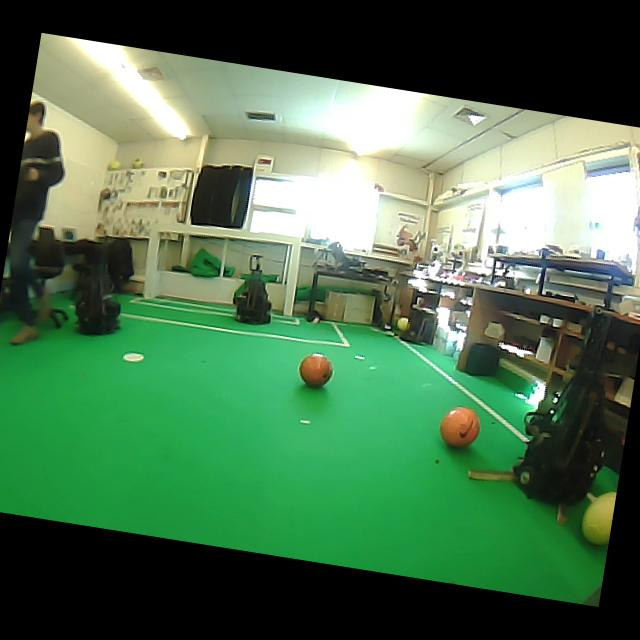ball: (582, 492, 616, 545), (440, 407, 480, 447), (299, 353, 333, 387), (396, 317, 410, 331), (107, 159, 122, 171), (132, 158, 145, 168)
goal: (283, 238, 300, 315), (143, 231, 161, 298)
robot: (514, 309, 612, 504), (75, 264, 121, 335), (234, 255, 271, 324)
